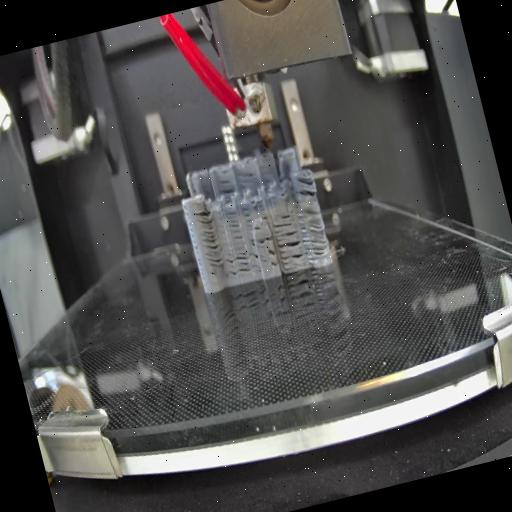cracks: (194, 209, 226, 273), (296, 208, 330, 262), (274, 227, 306, 268), (227, 210, 244, 244), (296, 178, 317, 199), (235, 251, 252, 275), (270, 214, 293, 231), (248, 234, 274, 248), (216, 177, 235, 195), (225, 254, 238, 280), (266, 248, 279, 269), (242, 204, 254, 224), (236, 170, 254, 180), (250, 254, 260, 267), (252, 222, 262, 232), (260, 214, 270, 222)
